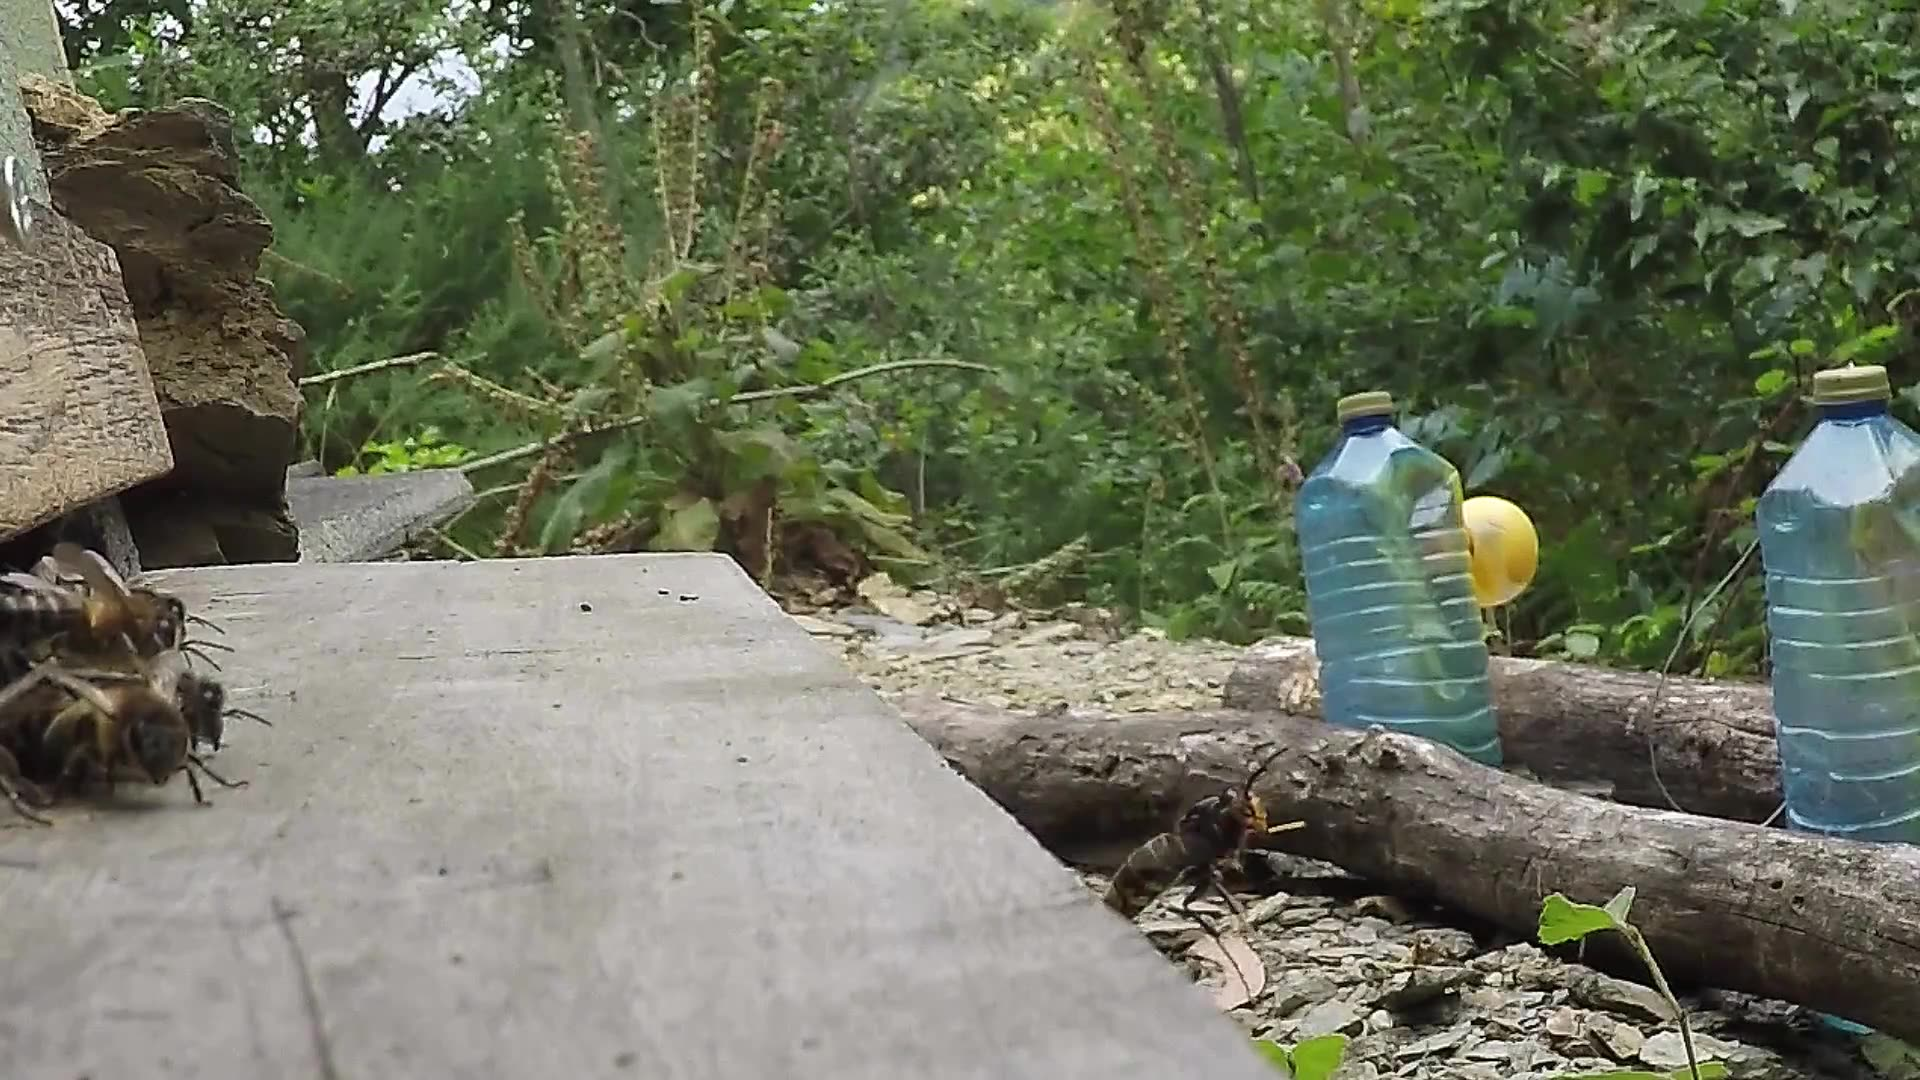bee: (1, 541, 249, 832)
hornet: (1077, 764, 1295, 965)
